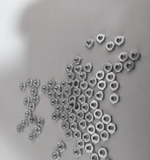nut: (102, 114, 113, 125), (124, 61, 136, 71), (130, 51, 142, 61), (99, 148, 109, 159), (85, 143, 95, 154), (82, 132, 92, 143), (94, 109, 104, 120), (92, 133, 101, 145), (107, 124, 117, 134), (85, 113, 95, 123), (110, 94, 120, 104), (110, 81, 120, 91), (114, 63, 124, 73), (119, 53, 129, 63), (115, 36, 125, 46), (78, 71, 88, 81), (73, 56, 83, 66), (79, 119, 88, 130), (73, 148, 83, 157), (57, 143, 66, 153), (101, 131, 110, 141), (96, 122, 105, 132), (65, 130, 74, 140), (81, 103, 90, 113), (78, 95, 88, 104), (80, 81, 89, 91), (95, 92, 105, 101), (98, 81, 108, 90), (106, 73, 116, 82), (96, 71, 106, 80), (104, 64, 114, 73), (85, 39, 95, 48), (97, 34, 107, 43), (79, 81, 89, 90), (65, 64, 74, 74), (84, 63, 93, 73), (52, 151, 61, 160), (60, 113, 69, 122), (76, 111, 85, 120), (55, 105, 64, 114), (47, 80, 56, 89), (106, 42, 115, 51), (89, 78, 98, 87), (73, 88, 82, 97), (67, 72, 76, 81), (74, 65, 83, 74), (88, 125, 96, 135), (74, 130, 82, 140), (91, 100, 99, 110), (72, 79, 80, 89), (77, 139, 85, 148), (52, 113, 60, 122), (56, 93, 65, 101), (54, 85, 62, 94), (64, 88, 72, 97), (29, 133, 37, 142), (36, 119, 45, 127), (28, 103, 36, 112), (30, 88, 39, 96), (19, 83, 27, 92), (33, 79, 41, 88), (86, 89, 94, 98), (67, 80, 75, 89), (71, 122, 78, 132), (69, 114, 77, 122), (62, 122, 70, 130), (65, 106, 73, 114), (34, 127, 42, 135), (23, 98, 31, 106), (25, 79, 33, 87), (69, 100, 76, 109), (74, 103, 81, 112), (62, 98, 69, 107), (48, 91, 55, 100), (42, 86, 49, 95), (61, 80, 68, 89), (51, 99, 59, 106), (69, 96, 77, 103), (17, 125, 24, 133), (22, 119, 29, 127), (91, 154, 100, 160), (25, 111, 32, 118), (32, 97, 40, 103)
